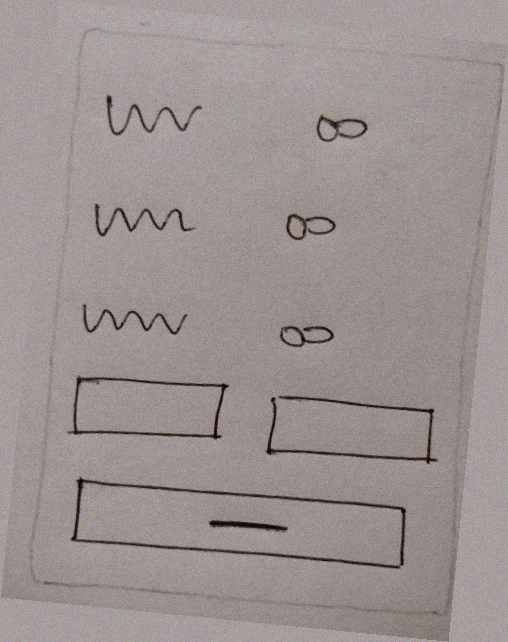button: (57, 465, 426, 578)
switch: (256, 298, 350, 364), (297, 97, 388, 160), (270, 196, 350, 254)
text: (91, 79, 212, 148), (70, 288, 199, 349), (81, 188, 204, 251)
text_input: (258, 381, 448, 482), (61, 360, 238, 464)
